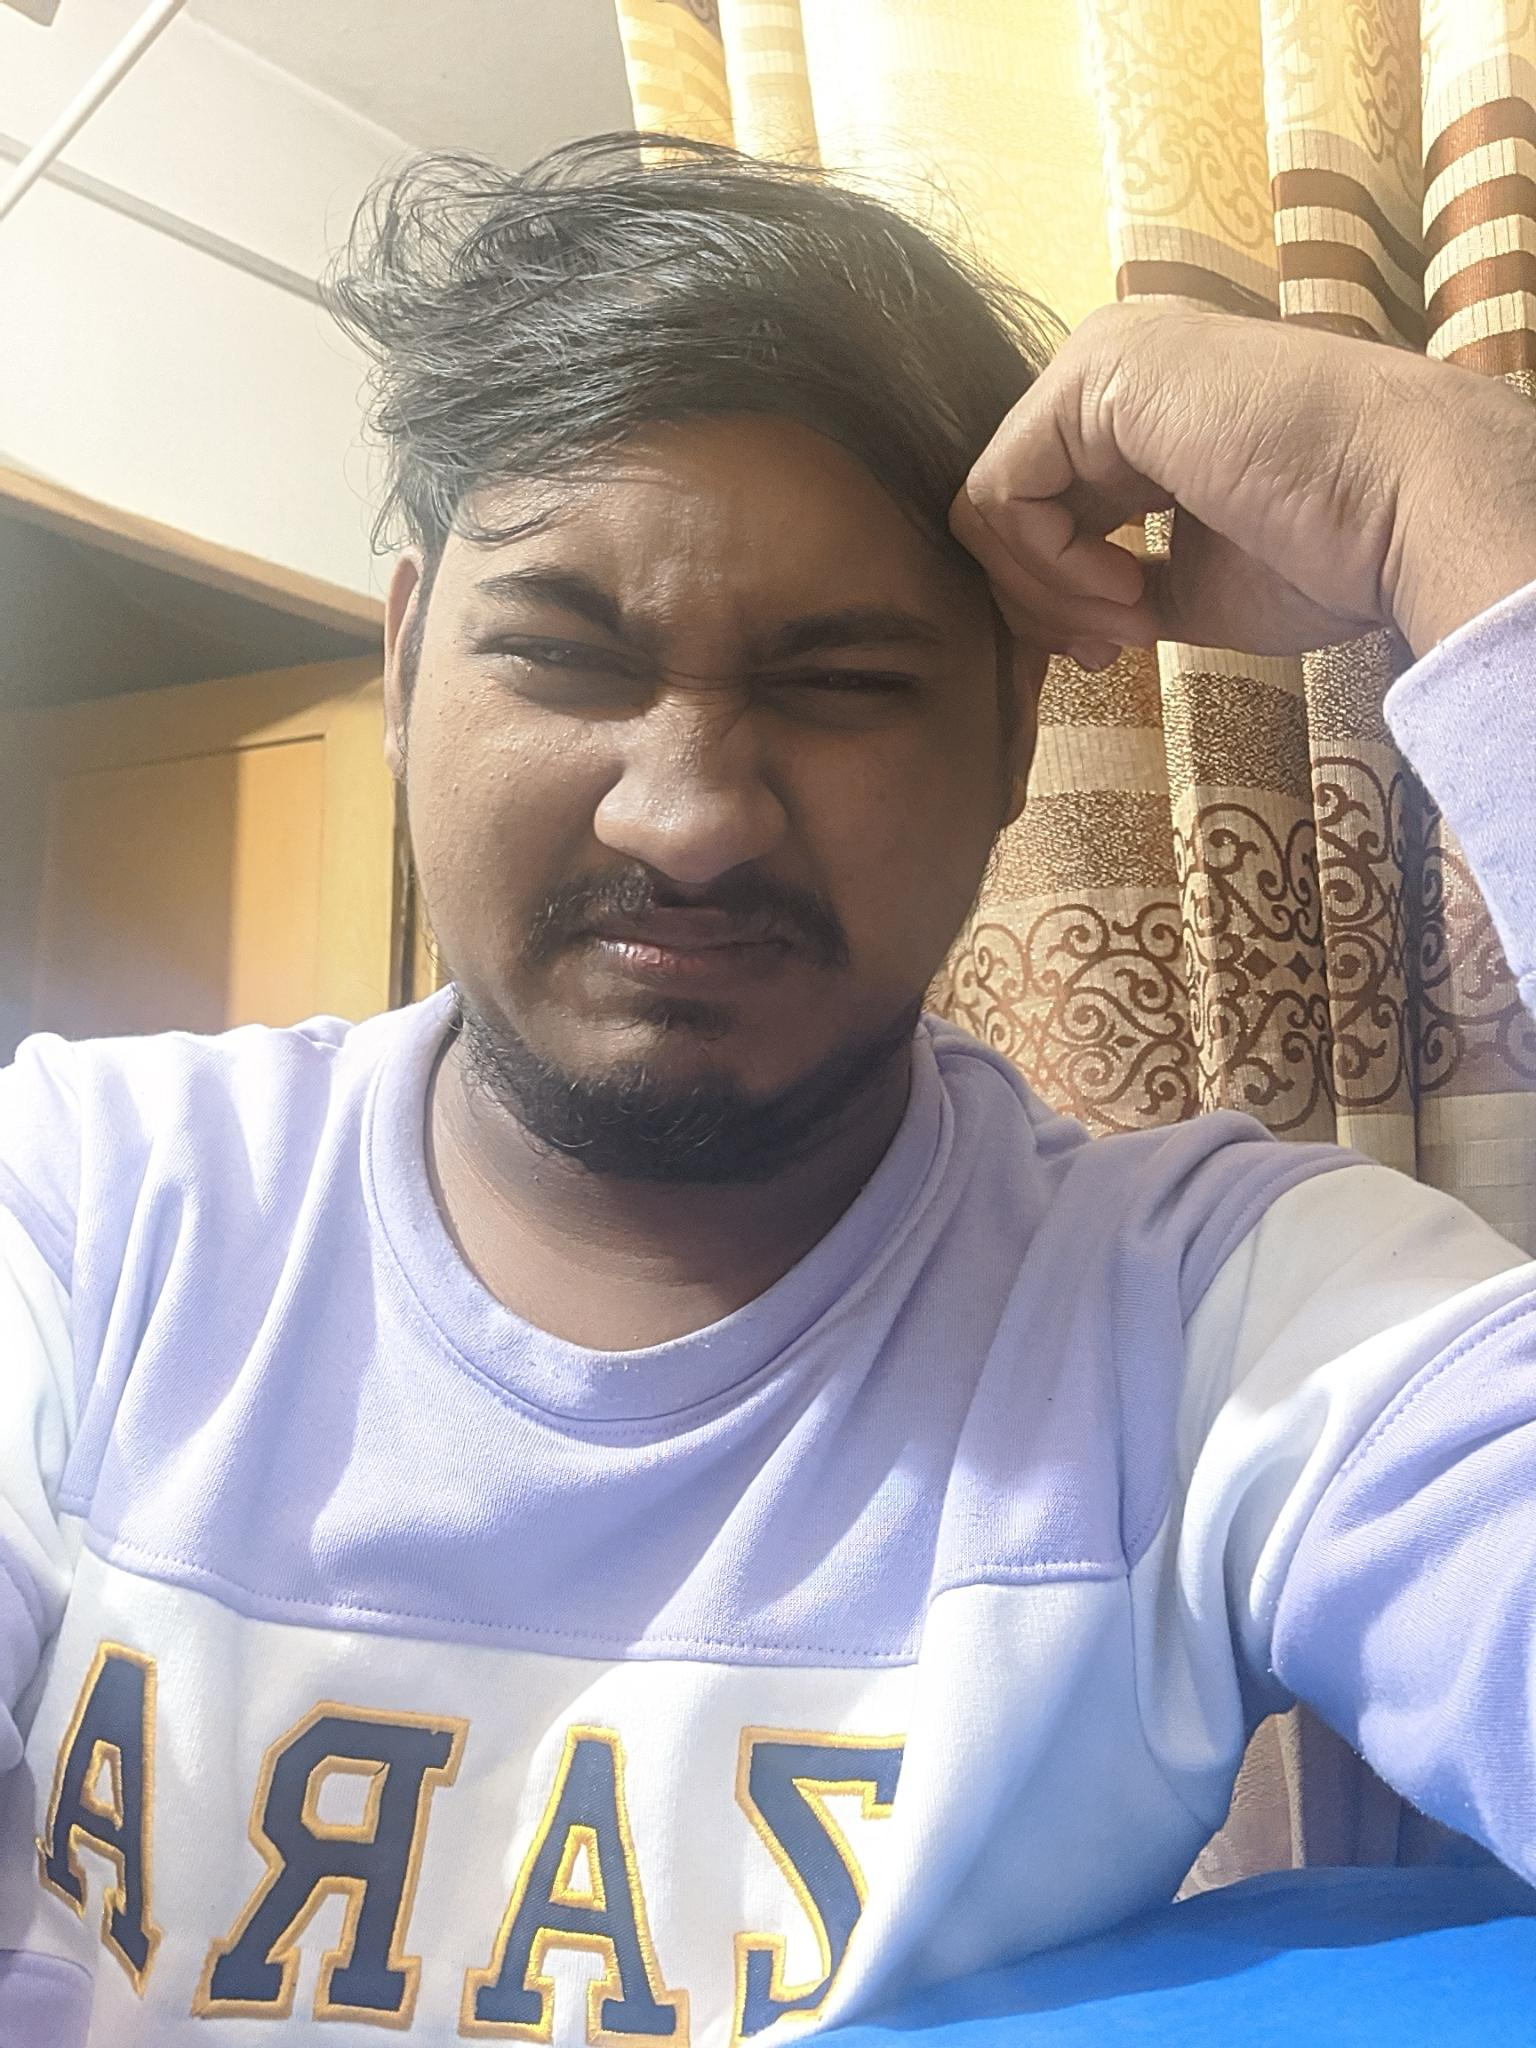Disgust: (423, 468, 1005, 1143)
